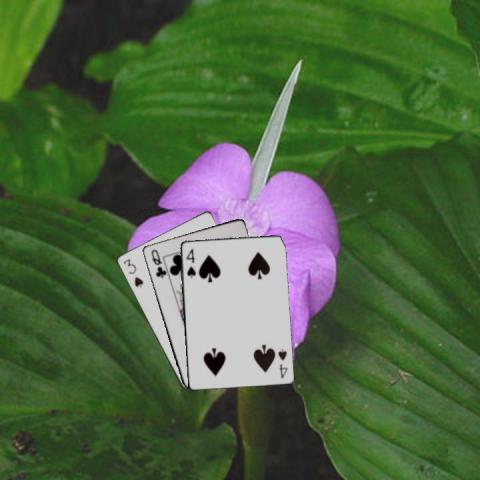3s: (120, 256, 144, 289)
4s: (183, 246, 197, 280), (275, 346, 289, 380)
Qc: (148, 246, 167, 279)
